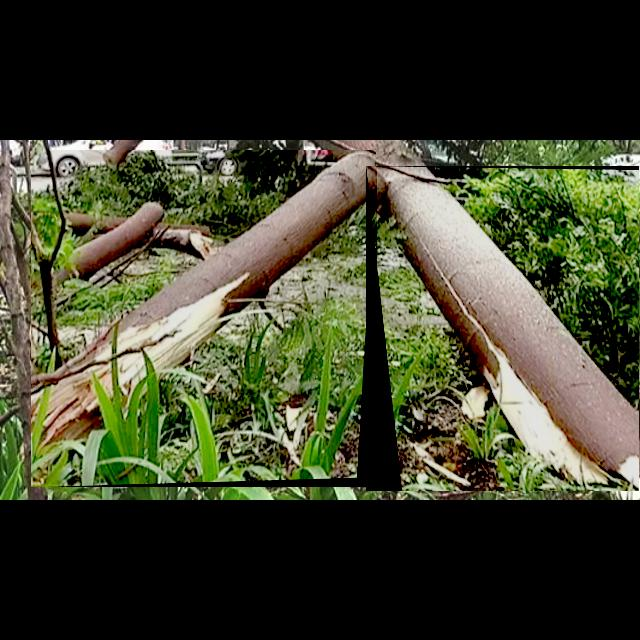Fallen Tree: (31, 150, 377, 488), (366, 166, 640, 492)
